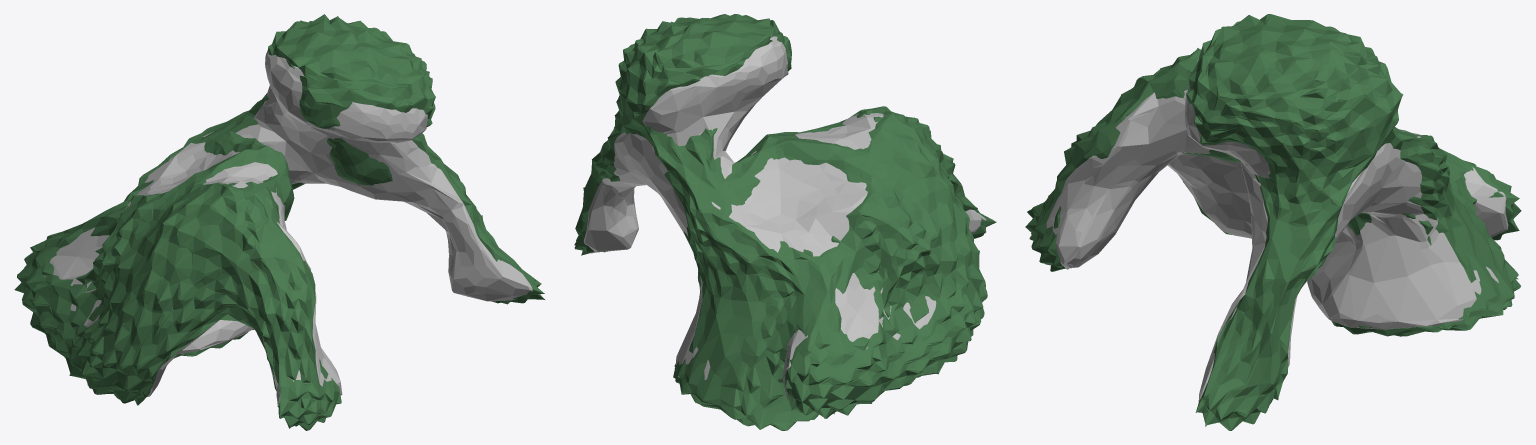
The model's file is Rock-3.glb.
3 renders of one model, left to right at view 1: azimuth 30°, elevation 25°; view 2: azimuth 150°, elevation 25°; view 3: azimuth 270°, elevation 25°, orthographic. The views are drawn at different scales.
Visible parts, largest first — view 1: Rock_046; view 2: Rock_046; view 3: Rock_046.
Boxes of the visible parts, left/top/right/bottom form: Rock_046: left=14, top=14, right=544, bottom=430; Rock_046: left=574, top=14, right=996, bottom=430; Rock_046: left=1025, top=14, right=1521, bottom=430.
Size of what is drawn, in the model's own units: 15.18 by 10.38 by 13.92.
1 material, 1 textured.
